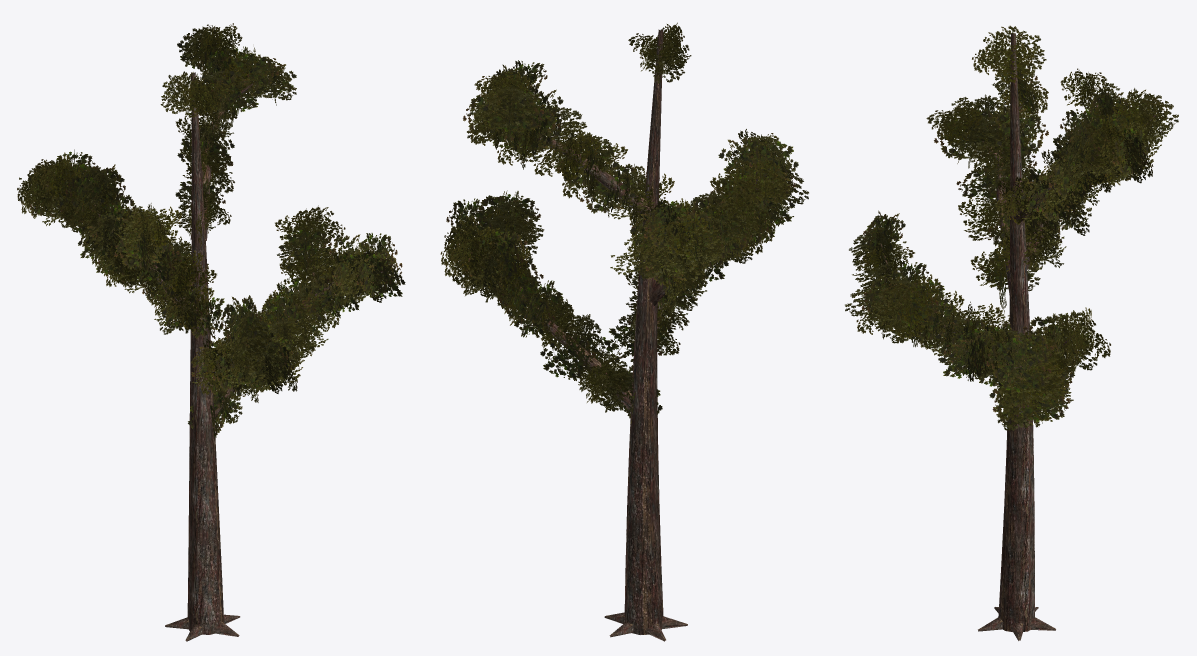
The model's file is tree_3d_06_lod0.glb.
3 renders of one model, left to right at view 1: azimuth 30°, elevation 25°; view 2: azimuth 150°, elevation 25°; view 3: azimuth 270°, elevation 25°, orthographic. The views are drawn at different scales.
Parts seen in each view (by area): view 1: foliage_cards, wood_geometry; view 2: foliage_cards, wood_geometry; view 3: foliage_cards, wood_geometry.
Boxes of the visible parts, left/top/right/bottom form: foliage_cards: left=17, top=23, right=405, bottom=437; wood_geometry: left=46, top=67, right=382, bottom=641; foliage_cards: left=440, top=22, right=808, bottom=423; wood_geometry: left=503, top=29, right=758, bottom=641; foliage_cards: left=845, top=25, right=1178, bottom=430; wood_geometry: left=880, top=33, right=1155, bottom=640.
Bounding box in the file's own units: 5.21 × 8.1 × 4.24.
2 materials, 2 textured.
